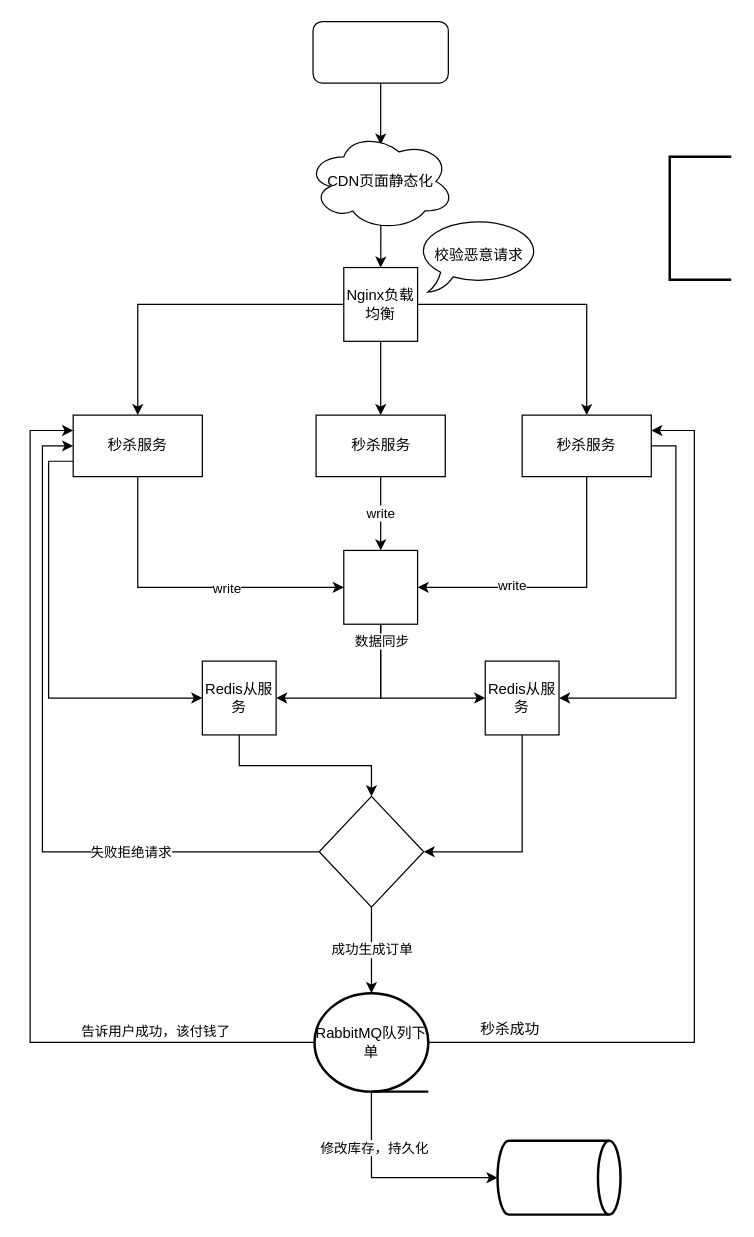
Image size: 754x1237. Some labels were removed from this diagram. Here are the shapes that lost their labels. From the top down, the centre of each, then its label:
pixel 380 51: 用户
pixel 380 586: Redis主服务
pixel 371 851: LUA判断库存和扣减库存
pixel 558 1177: MYSQL
